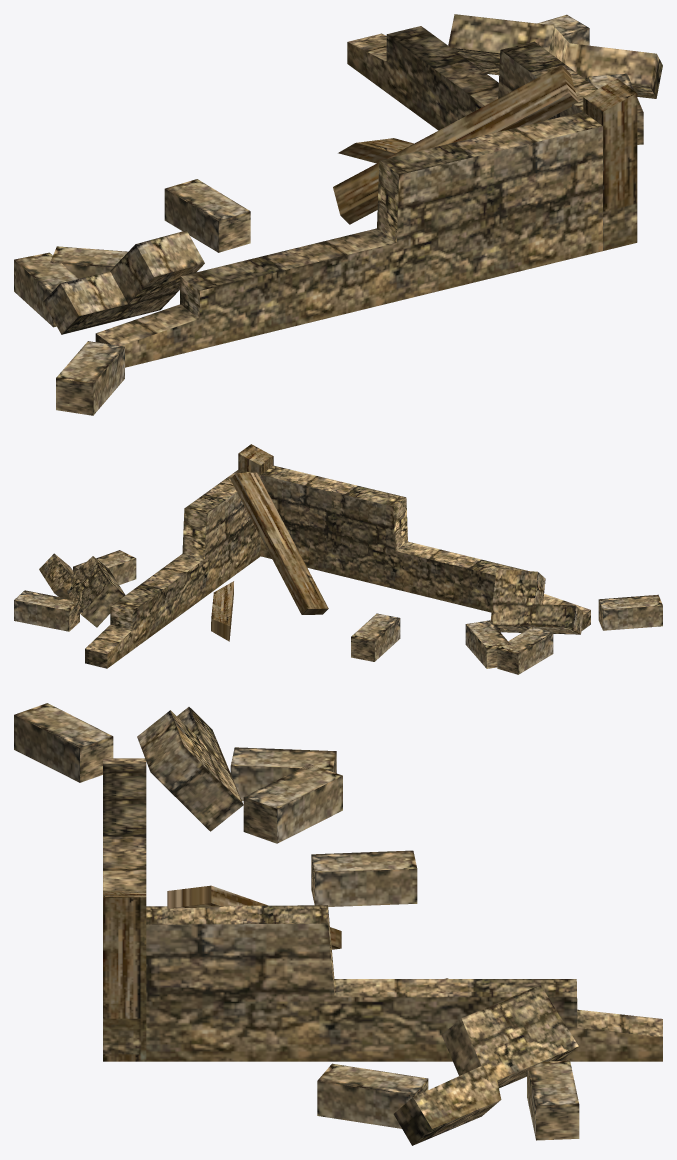
Rendered from M6_Ruins3.glb.
The picture shows the model from 3 angles, top to bottom: view 1: azimuth 30°, elevation 25°; view 2: azimuth 150°, elevation 25°; view 3: azimuth 270°, elevation 25°; orthographic projection. The views are drawn at different scales.
Visible parts, largest first — view 1: M6_RUINS3; view 2: M6_RUINS3; view 3: M6_RUINS3.
Part boxes in pixels (x1,y1,x2,y2): M6_RUINS3: (14, 14, 662, 415); M6_RUINS3: (14, 444, 662, 674); M6_RUINS3: (14, 703, 662, 1145).
Size of the model in its own units: 3.28 by 0.603 by 2.15.
1 material, 1 textured.
